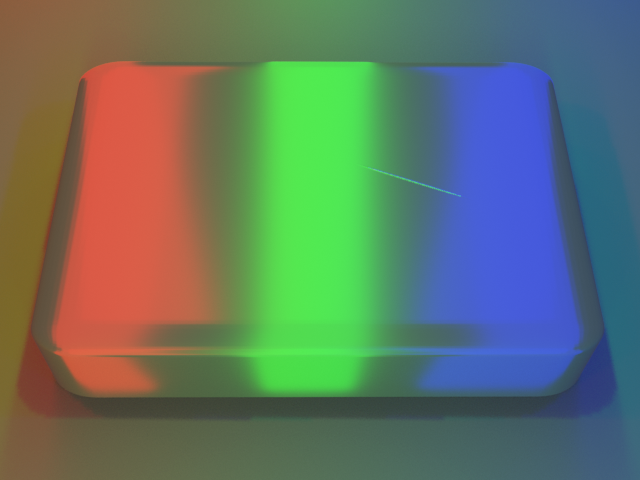scratch: (267, 93, 582, 268)
